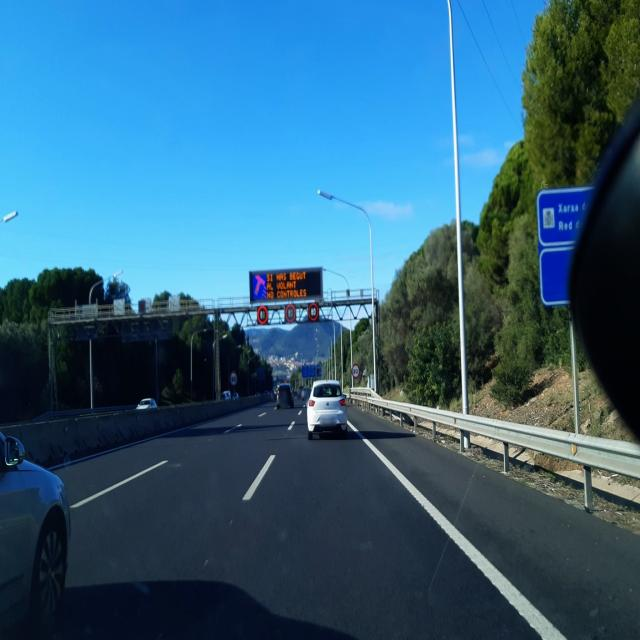car: (0, 390, 72, 638), (306, 379, 347, 439), (276, 382, 294, 410), (135, 396, 158, 411), (220, 389, 231, 400)
